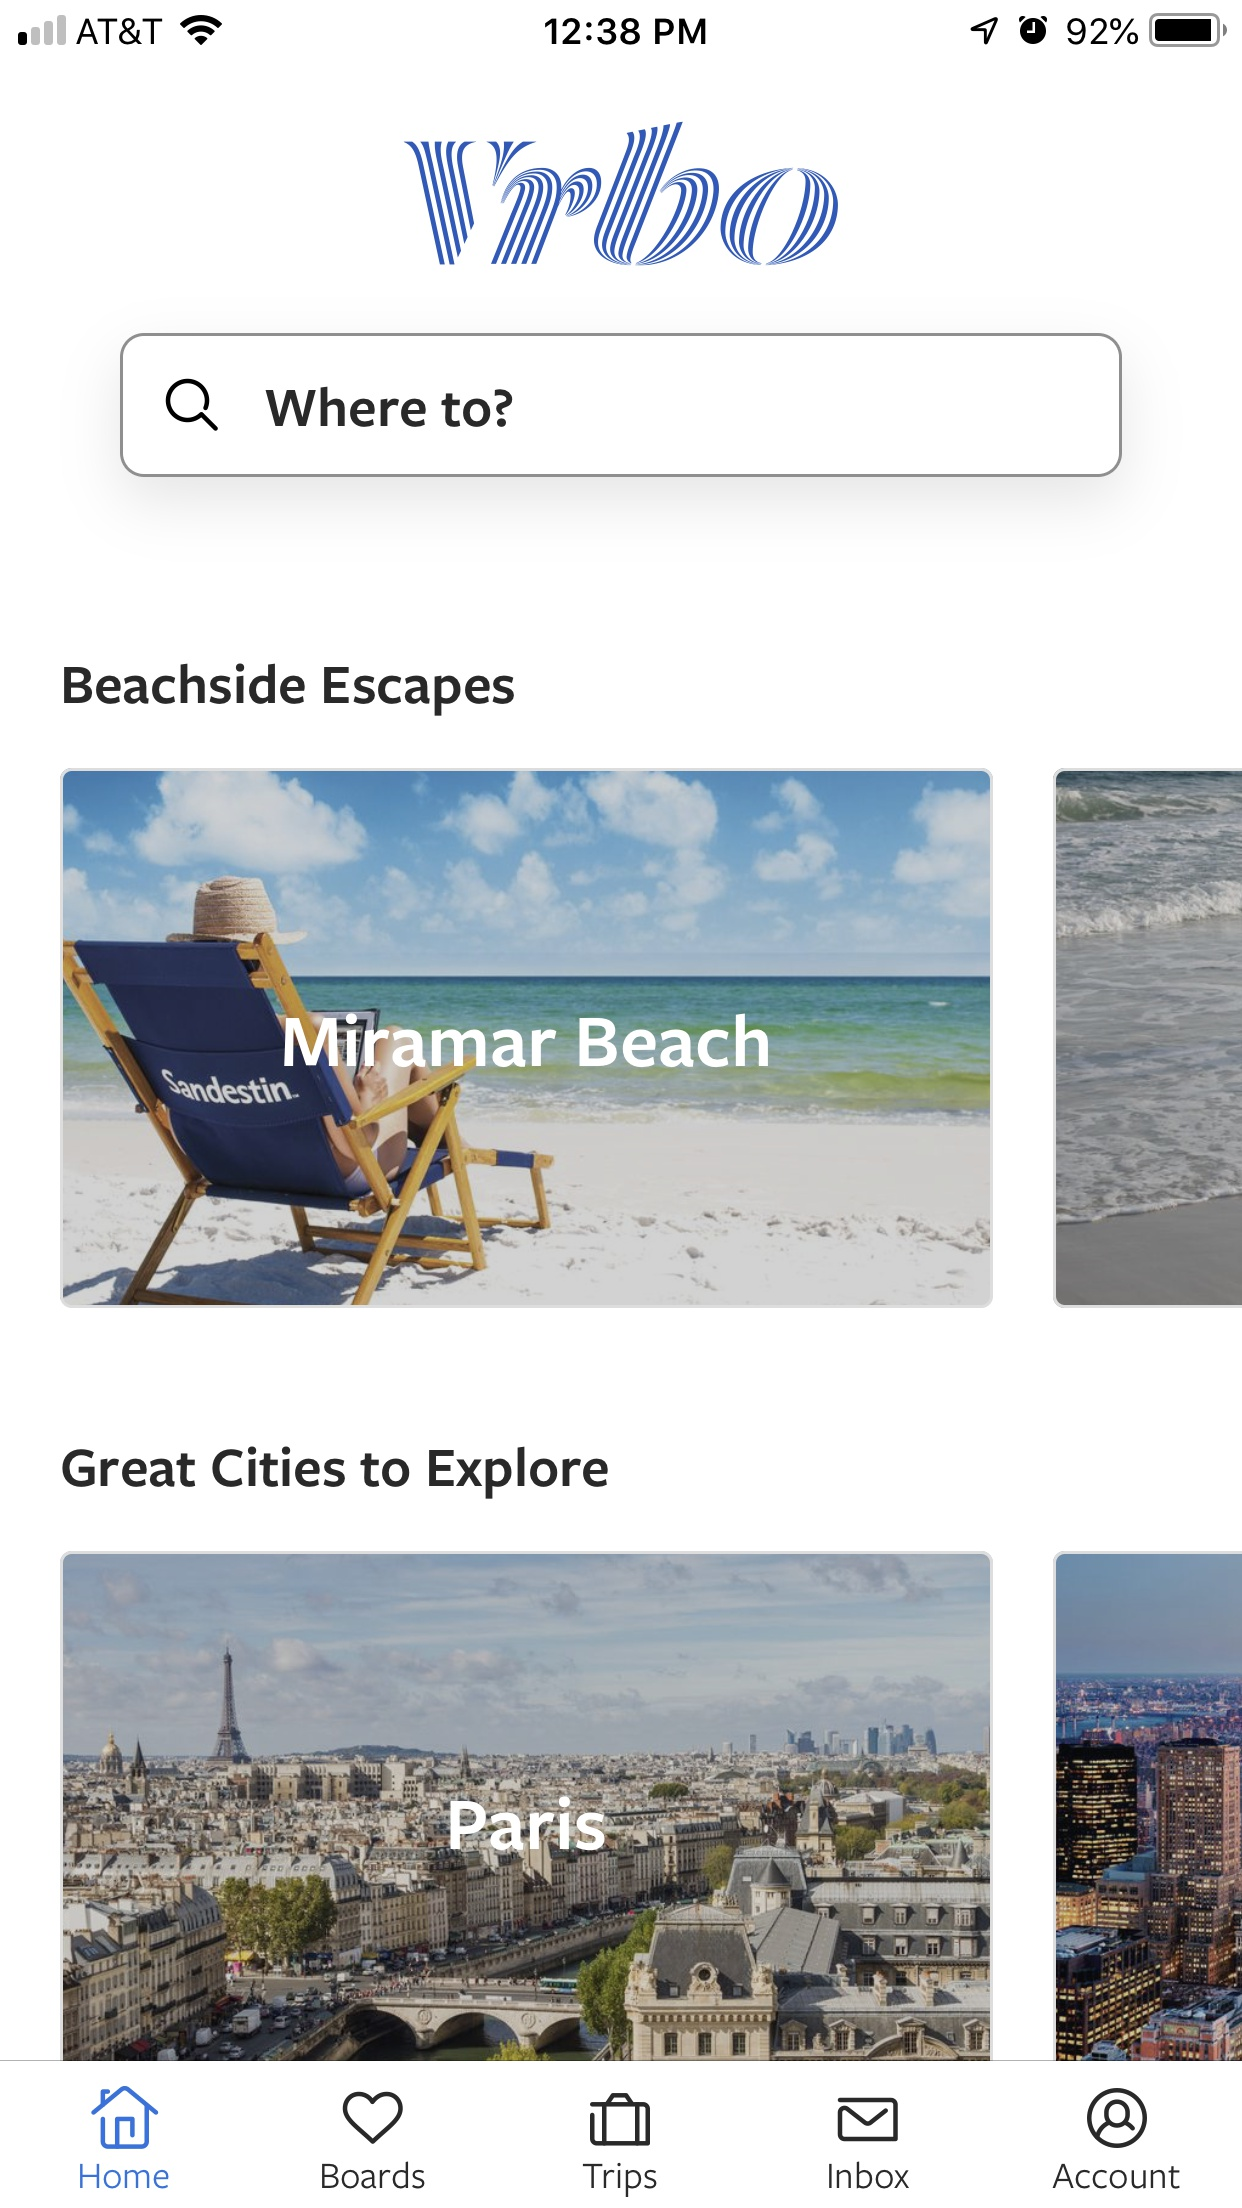EditText: (120, 334, 1124, 479)
Icon: (91, 2085, 161, 2150), (1086, 2087, 1148, 2149), (588, 2093, 651, 2147), (343, 2091, 403, 2144), (165, 379, 220, 434), (837, 2096, 899, 2141)
Image: (61, 767, 993, 1309), (61, 1551, 993, 2061), (1052, 767, 1237, 1309), (1052, 1551, 1242, 2061), (403, 121, 839, 268)
Text: (62, 1445, 610, 1500), (284, 1011, 769, 1068), (64, 663, 516, 717), (265, 388, 514, 428), (450, 1796, 605, 1852), (1052, 2163, 1180, 2190), (321, 2161, 426, 2190), (582, 2163, 658, 2197), (80, 2163, 170, 2190), (828, 2161, 910, 2188)
UpperTaskBar: (2, 2, 1242, 49)
